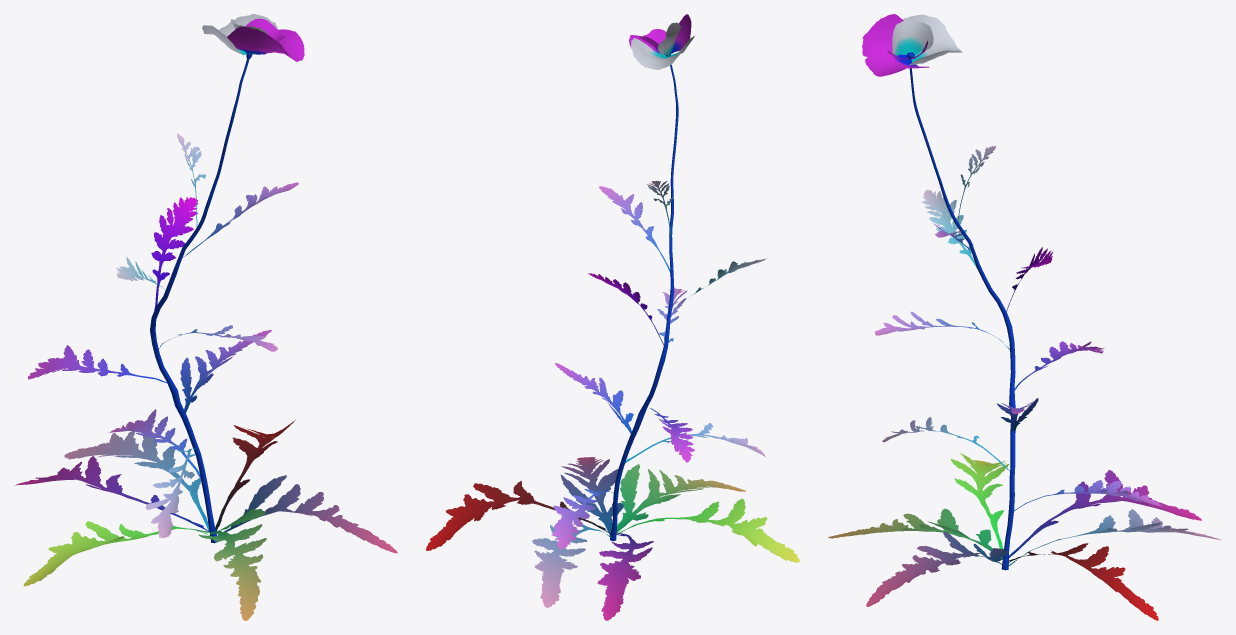
File: Field_Poppy_vmcobd0ja_Raw_vmcobd0ja_VarH_LOD0.fbx
3 views of the same model, side by side, from view 1: azimuth 30°, elevation 25°; view 2: azimuth 150°, elevation 25°; view 3: azimuth 270°, elevation 25° (orthographic). The views are drawn at different scales.
Visible parts, largest first — view 1: _9ql4_VarH_High; view 2: _9ql4_VarH_High; view 3: _9ql4_VarH_High.
Part boxes in pixels (x1,y1,x2,y2): _9ql4_VarH_High: [15, 14, 397, 620]; _9ql4_VarH_High: [426, 14, 799, 620]; _9ql4_VarH_High: [828, 14, 1221, 620].
Bounding box in the file's own units: 41.54 × 65.73 × 43.35.
